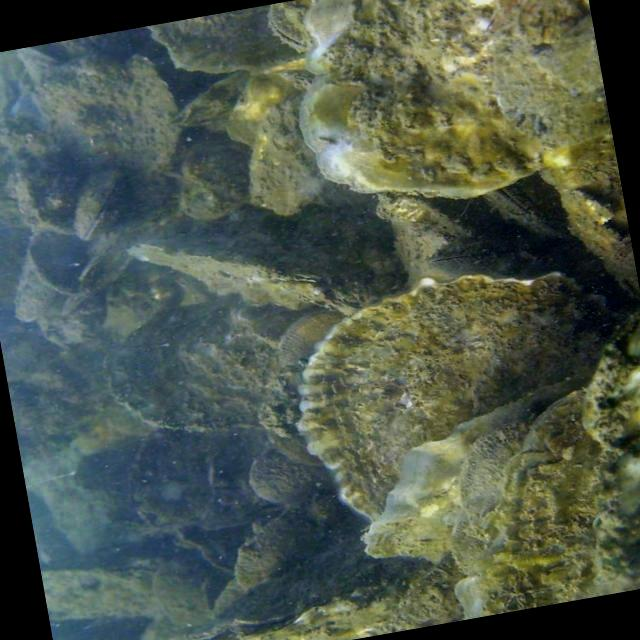Oyster-Closed: (297, 271, 618, 522), (298, 0, 612, 198), (457, 389, 639, 616), (127, 202, 404, 313), (172, 528, 434, 639), (102, 293, 306, 429), (39, 53, 178, 180), (125, 427, 284, 528), (581, 308, 639, 576), (233, 492, 369, 592), (494, 36, 611, 146), (40, 546, 184, 623), (147, 4, 305, 73), (247, 92, 324, 214), (458, 422, 529, 540), (179, 128, 251, 219), (536, 10, 602, 87), (248, 449, 333, 504), (429, 233, 531, 278), (22, 163, 87, 230), (170, 70, 246, 125), (27, 230, 86, 294), (496, 0, 579, 41), (13, 254, 53, 323), (73, 445, 134, 489), (450, 512, 477, 575), (0, 166, 24, 226)
Oyster-Open: (483, 180, 567, 238), (73, 169, 131, 240), (200, 568, 243, 614), (268, 2, 306, 50)
